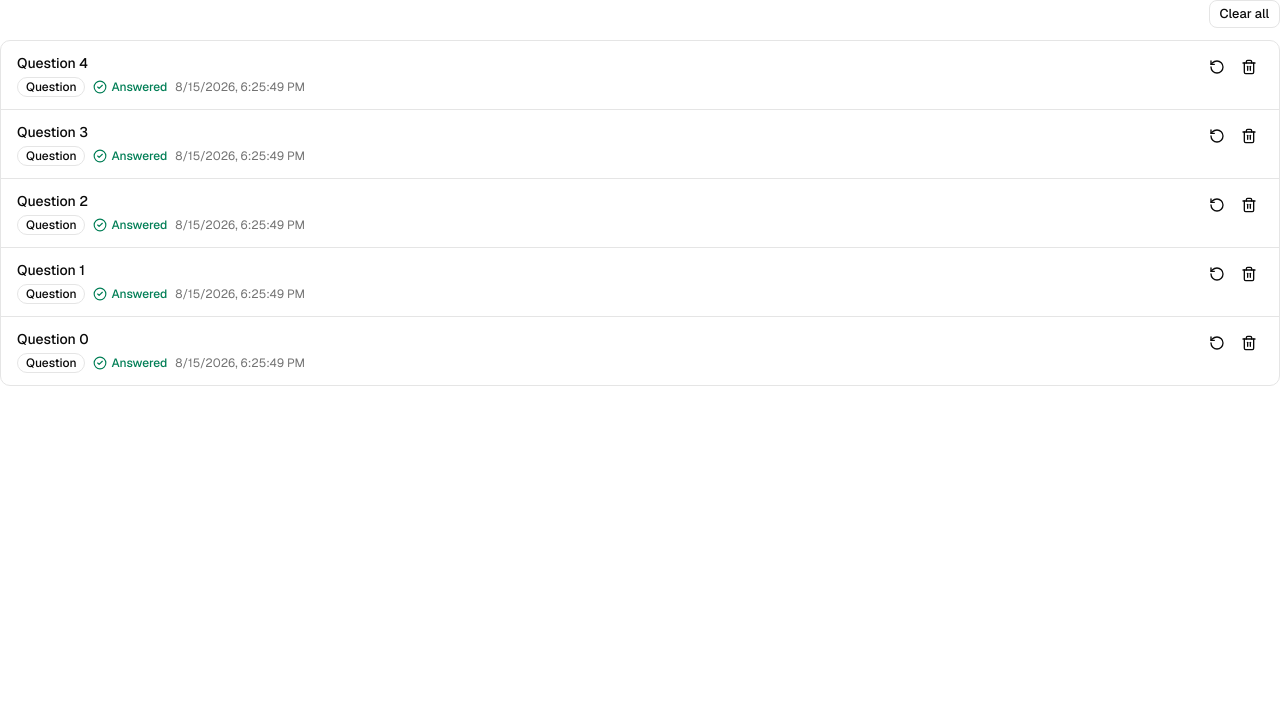
Test: HistoryList component › clear all › 'Cancel' button closes dialog without clearing
The image size is (1280, 720).
Expected: the text "Question 0" is shown, [17,330,89,348]
Click the button "Clear all". click: (1244, 14)
box: [1209,0,1279,28]
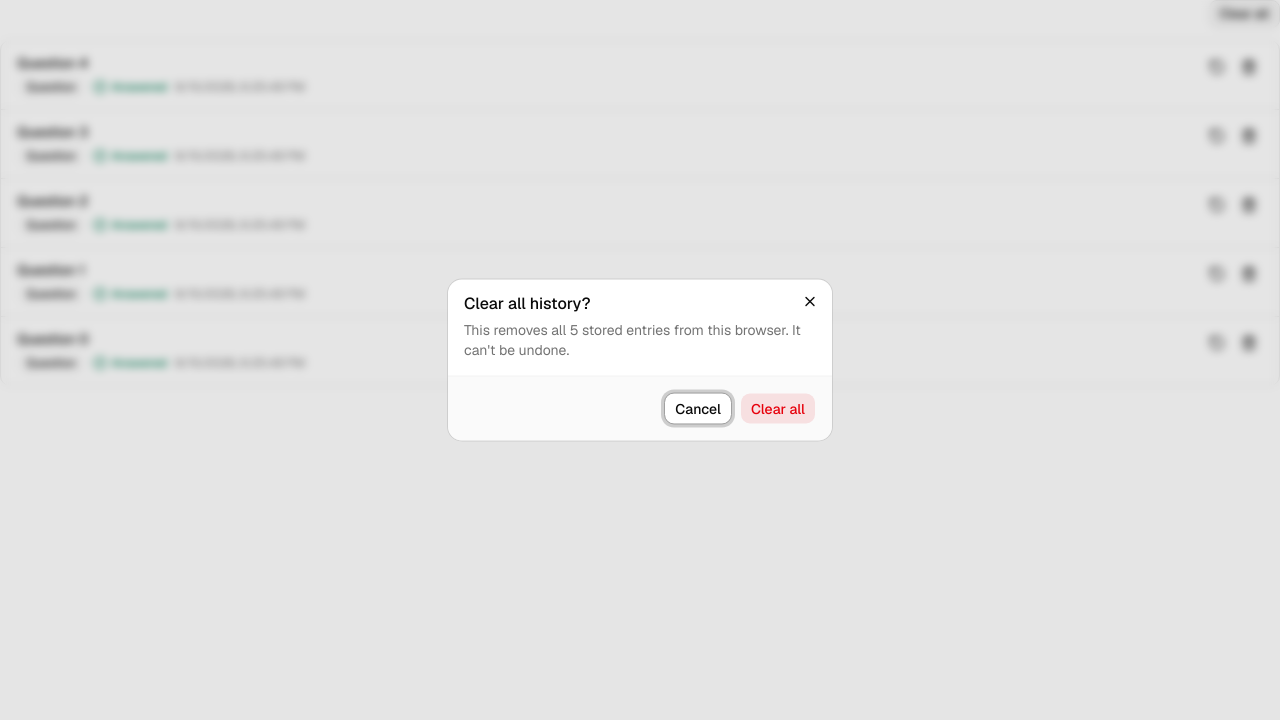
Now the heading "Clear all history?" is shown, box [464,292,591,314]
Click the button "Cancel". click: (698, 408)
box: [664,392,732,424]
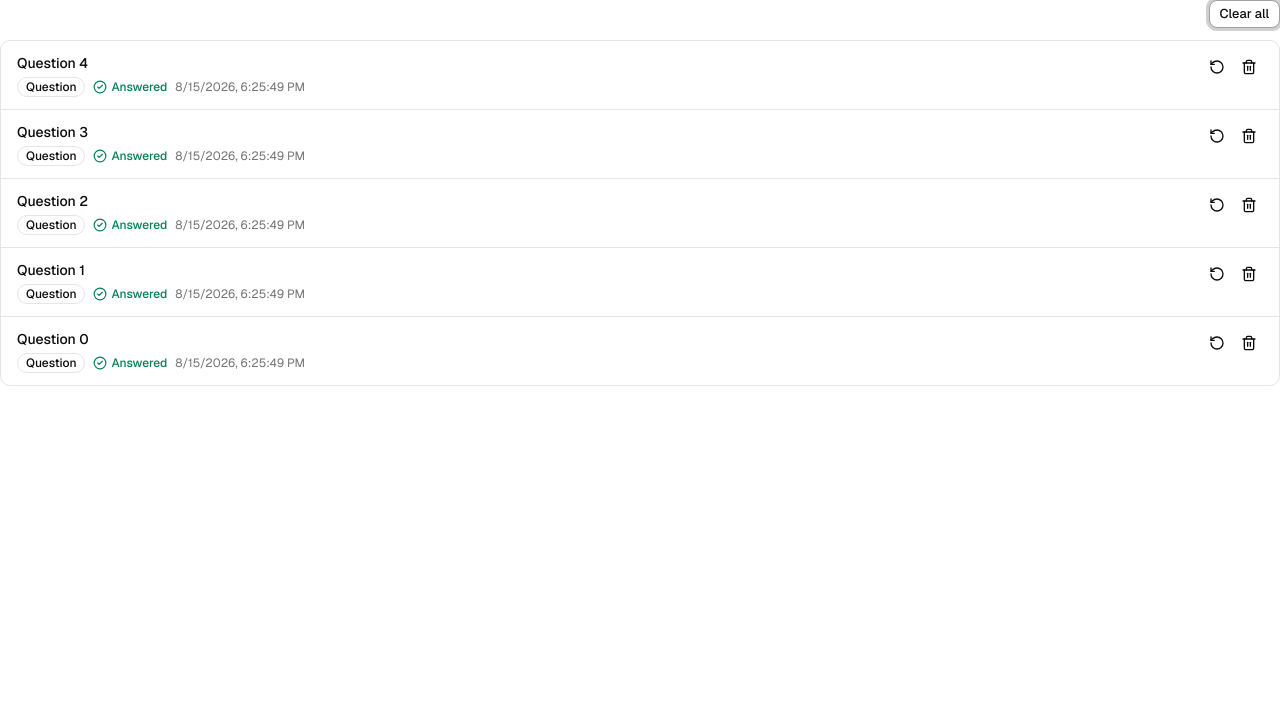
Expected: the text "Question 0" is shown, [17,330,89,348]
Now the heading "Clear all history?" is gone
